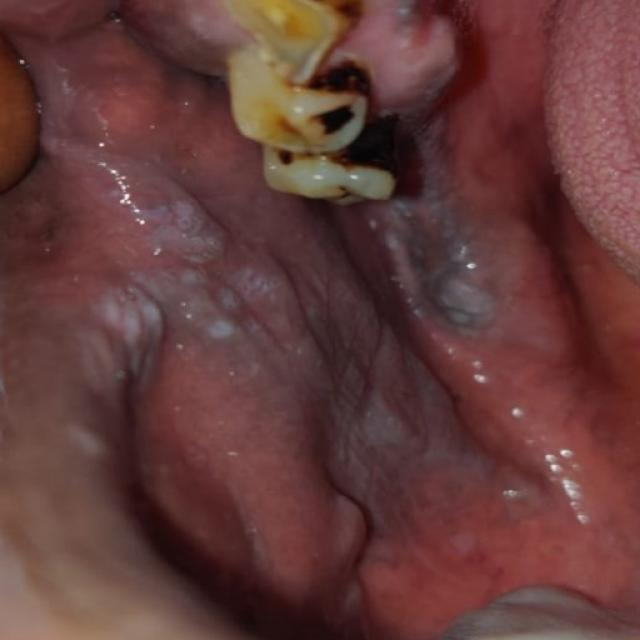leukoplakia-detection: (81, 64, 541, 539)
processing_area: (9, 0, 638, 639)
